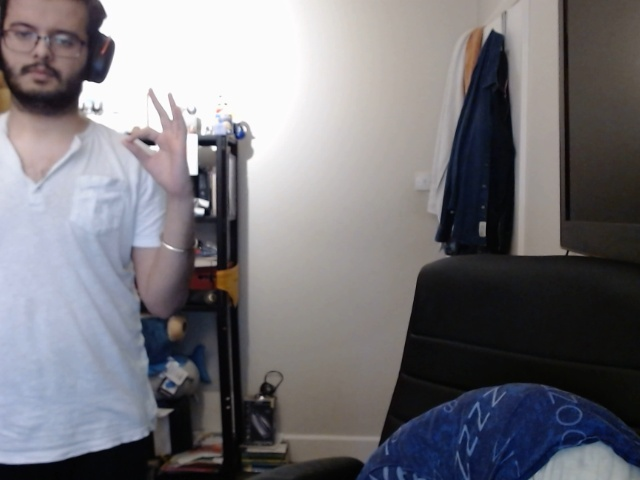Okay: (117, 82, 195, 206)
